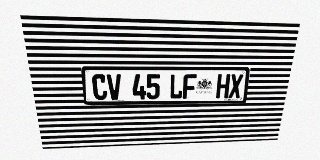4: (132, 74, 146, 99)
5: (146, 74, 160, 99)
C: (91, 74, 108, 100)
F: (183, 74, 197, 99)
H: (216, 74, 230, 98)
L: (169, 74, 183, 99)
V: (106, 74, 122, 100)
X: (228, 74, 243, 98)
